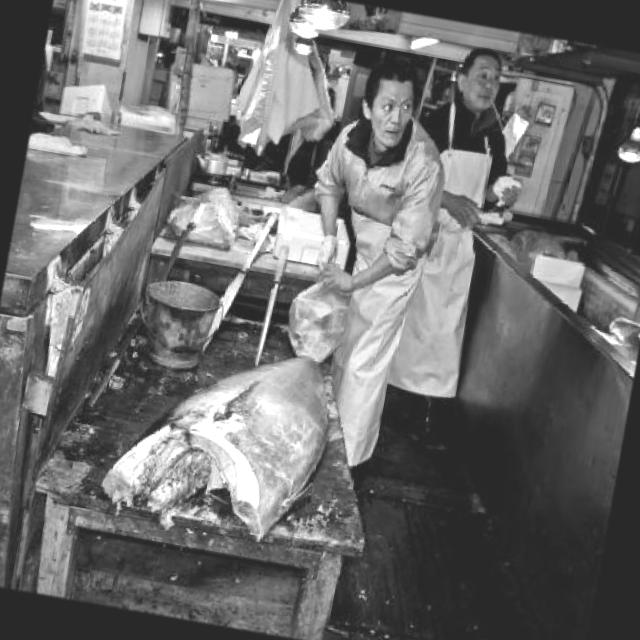Person: (269, 46, 464, 477), (360, 35, 542, 468)
